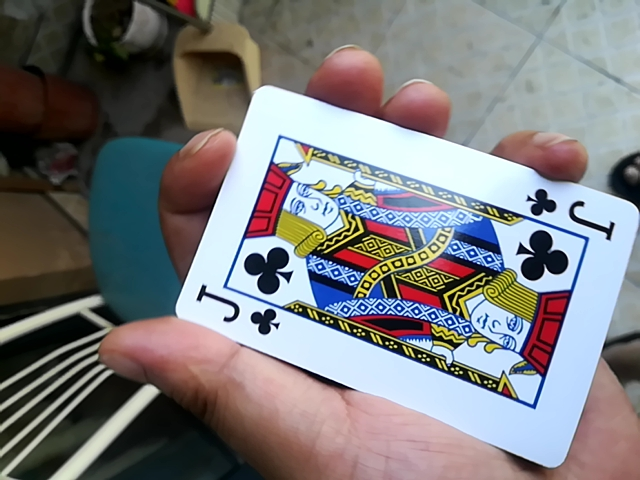mh j: (169, 90, 640, 461)
